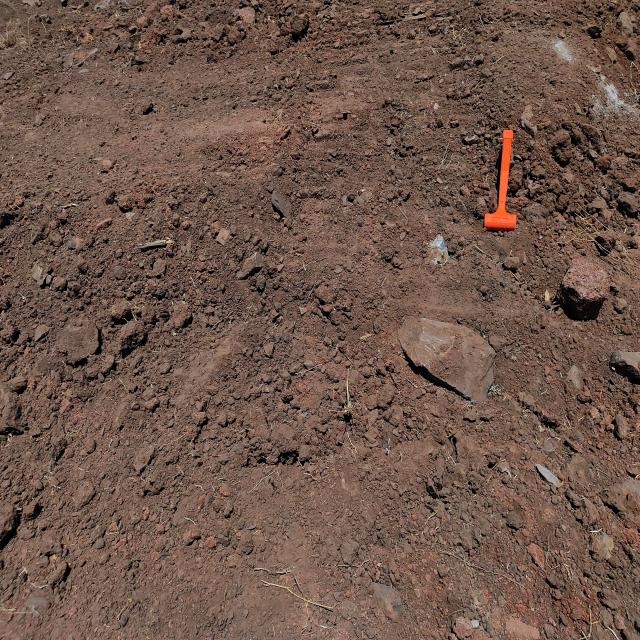Orange_hammer: (483, 128, 517, 230)
